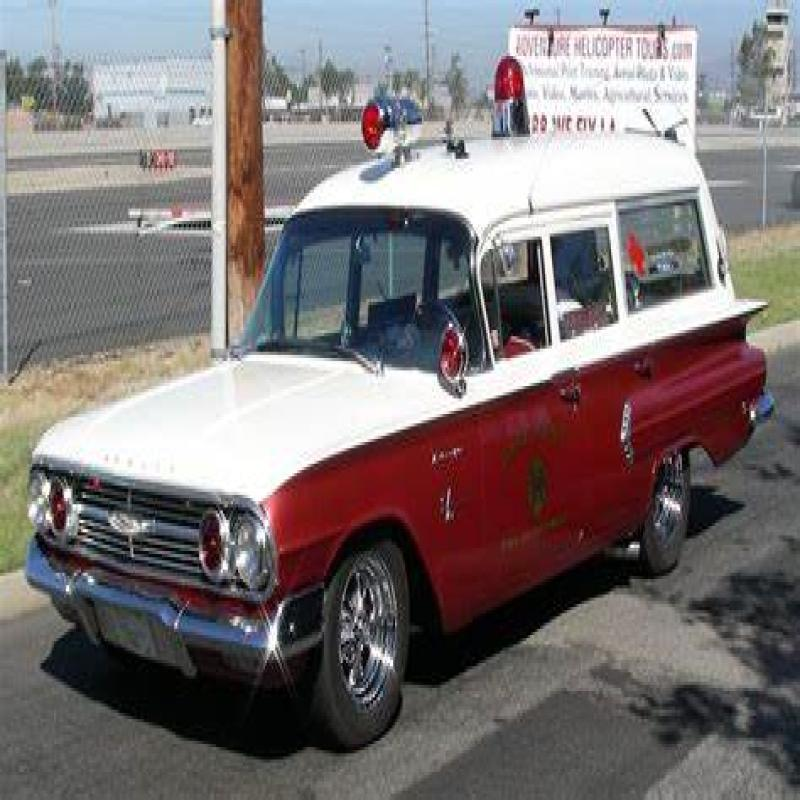AmbulanceSiren: (351, 66, 421, 172), (488, 49, 527, 141)
